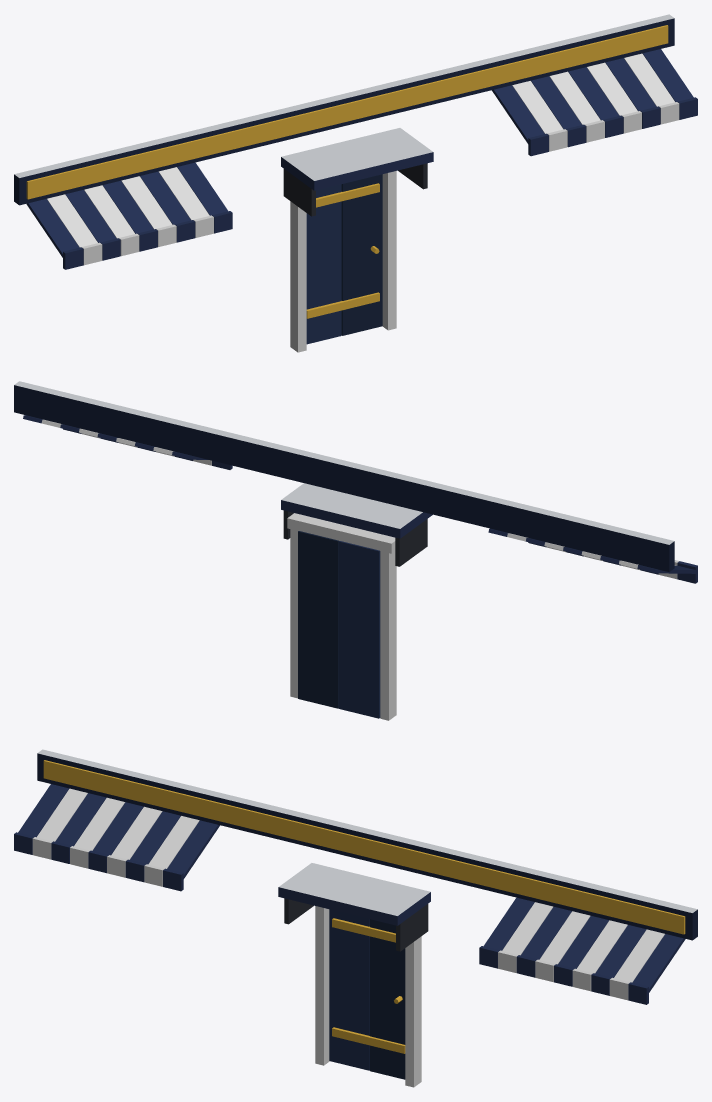
The model's file is PostOffice_Shopfront.glb.
3 views of the same model, one above another, from view 1: azimuth 30°, elevation 25°; view 2: azimuth 150°, elevation 25°; view 3: azimuth 330°, elevation 25° (orthographic).
Parts seen in each view (by area): view 1: PostOffice_Shopfront; view 2: PostOffice_Shopfront; view 3: PostOffice_Shopfront.
Part boxes in pixels (x1,y1,x2,y2): PostOffice_Shopfront: (14, 14, 697, 352); PostOffice_Shopfront: (14, 381, 697, 720); PostOffice_Shopfront: (14, 749, 697, 1087).
Bounding box in the file's own units: 35.2 × 12.43 × 4.02.
